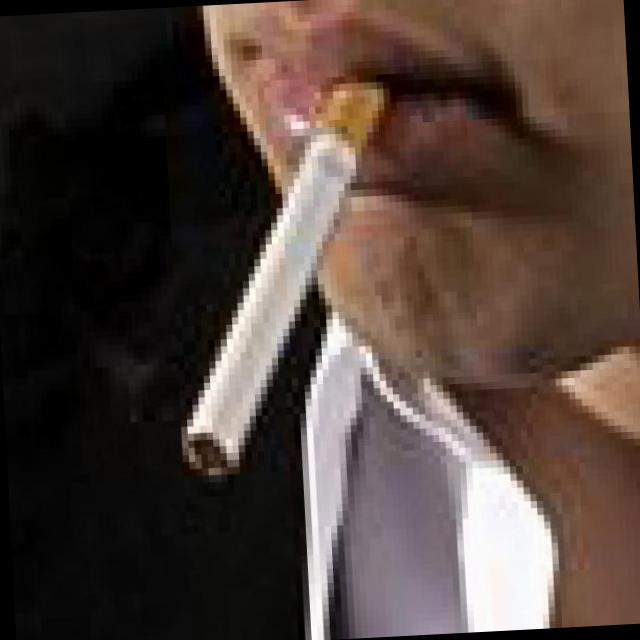cigarette: (157, 66, 422, 476)
